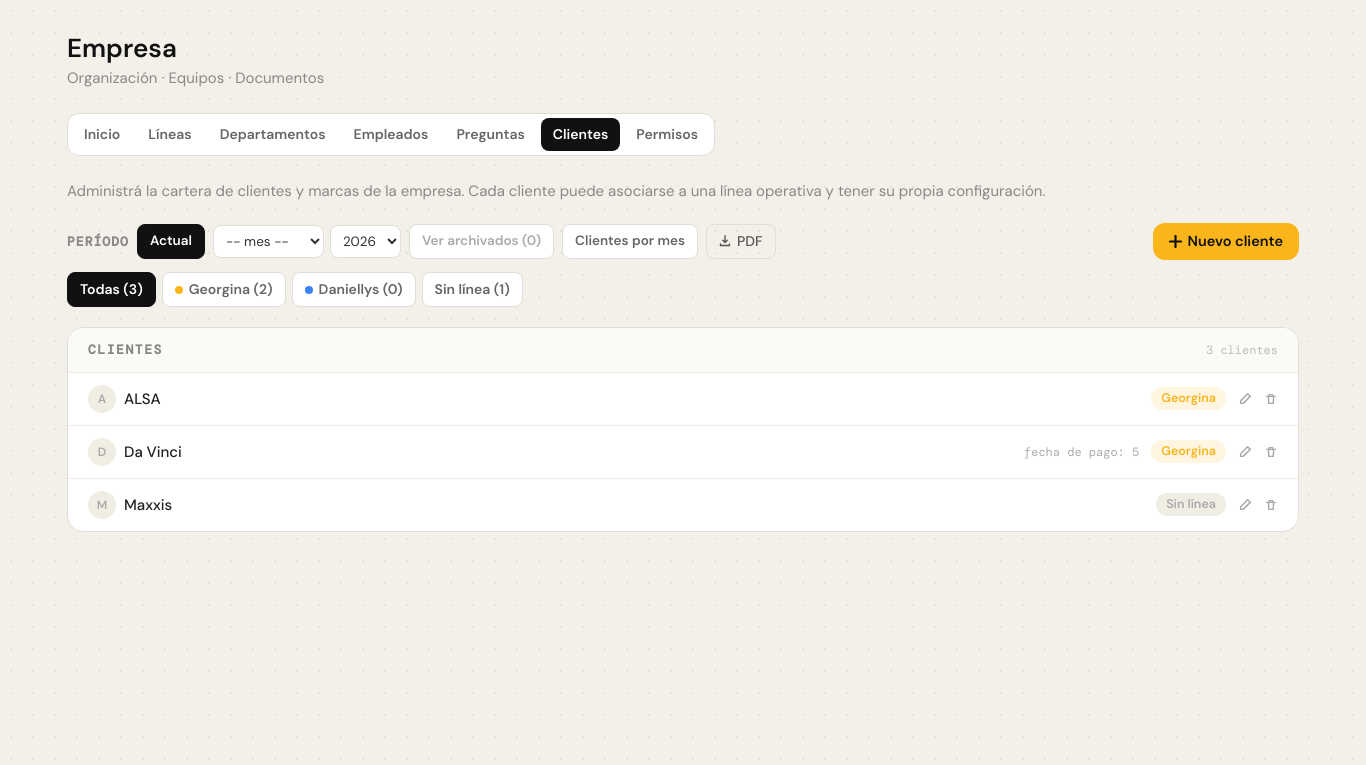
Test: ClientsView (sección Clientes en Empresa) — lista plana › el botón "Clientes por mes" muestra el panel de activos/altas/bajas
This screenshot has width=1366, height=765.
Check: the text "ALSA" is shown, box [124,388,161,410]
Click the button "Clientes por mes": (630, 241) [562,224,698,259]
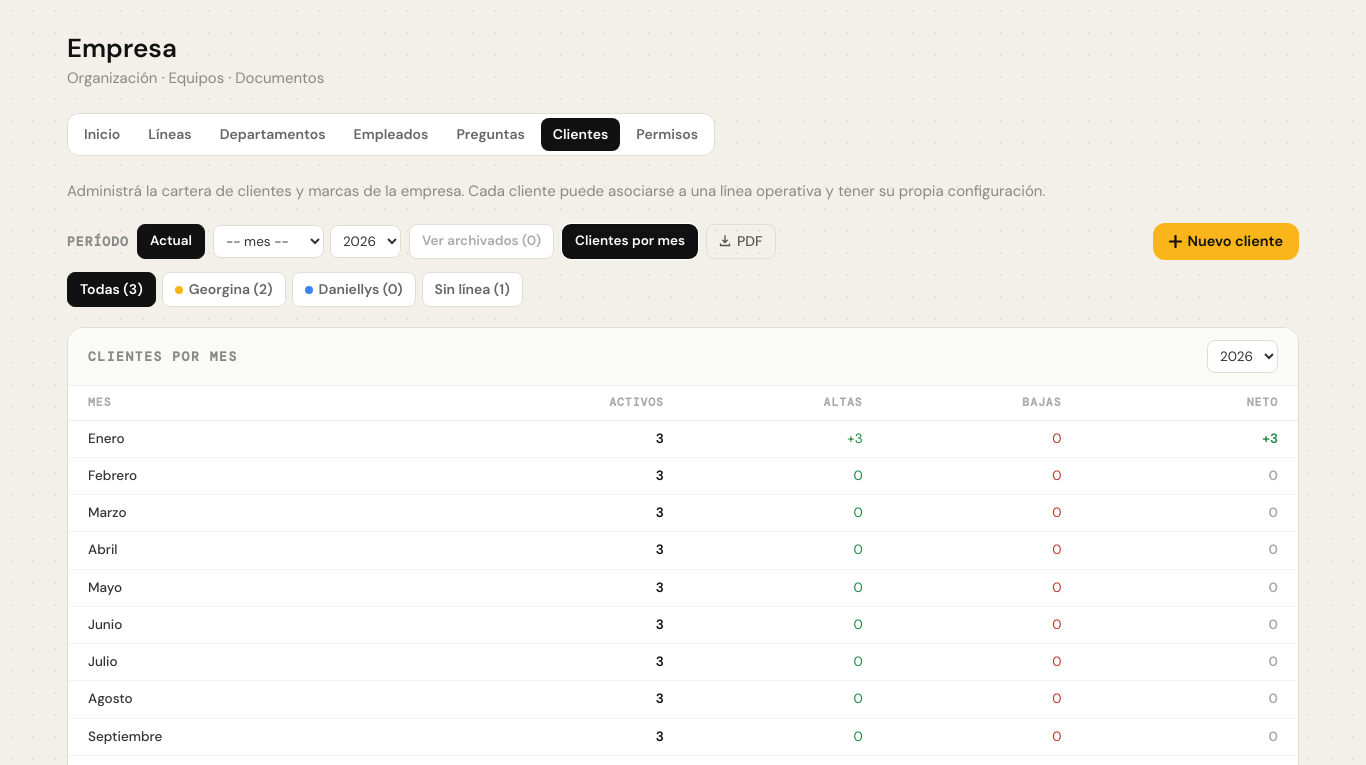
Check: the column heading "Activos" is shown, box [428,386,676,420]
Check: the column heading "Altas" is shown, box [676,386,875,420]
Check: the column heading "Bajas" is shown, box [875,386,1074,420]
